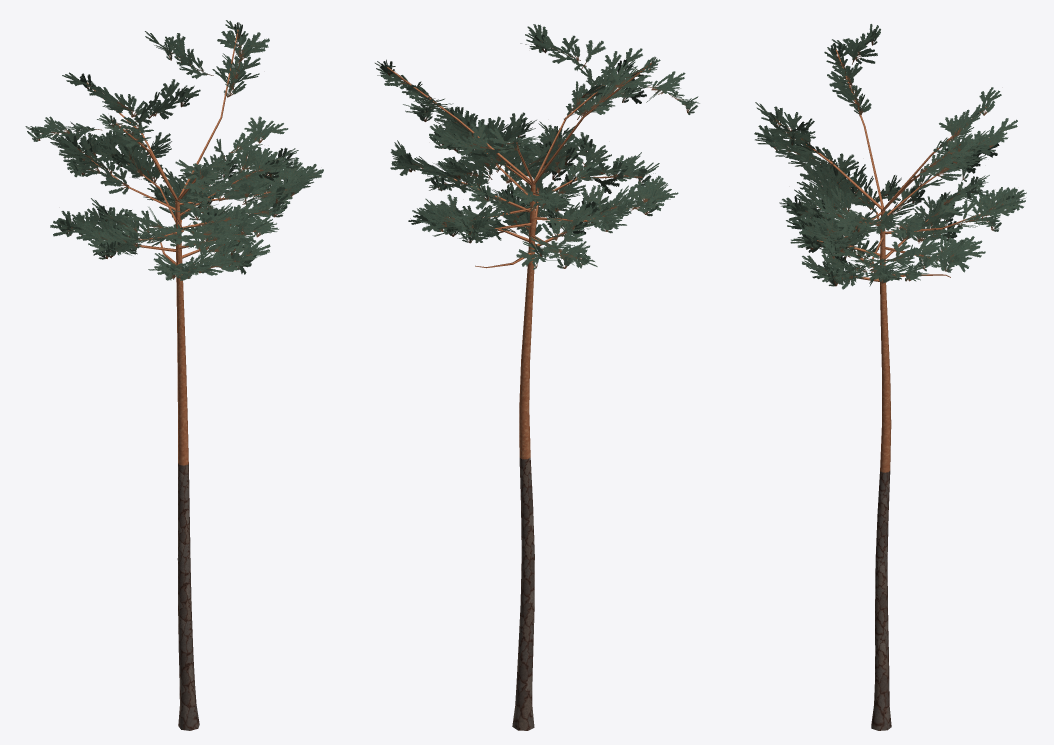
Rendered from pine_c_LOD1.glb.
3 renders of one model, left to right at view 1: azimuth 30°, elevation 25°; view 2: azimuth 150°, elevation 25°; view 3: azimuth 270°, elevation 25°, orthographic. The views are drawn at different scales.
Parts seen in each view (by area): view 1: Pine_C_LOD1_Foliage, Pine_C_LOD1_Bark; view 2: Pine_C_LOD1_Foliage, Pine_C_LOD1_Bark; view 3: Pine_C_LOD1_Foliage, Pine_C_LOD1_Bark.
Boxes of the visible parts, x1,y1,x2,y2 form: Pine_C_LOD1_Foliage: [25, 20, 323, 280]; Pine_C_LOD1_Bark: [87, 29, 278, 730]; Pine_C_LOD1_Foliage: [375, 24, 699, 269]; Pine_C_LOD1_Bark: [387, 62, 651, 730]; Pine_C_LOD1_Foliage: [754, 24, 1026, 289]; Pine_C_LOD1_Bark: [776, 49, 1003, 730].
Size of the model in its own units: 11.09 by 22.47 by 9.38.
Materials: 2 (2 with a texture image).
